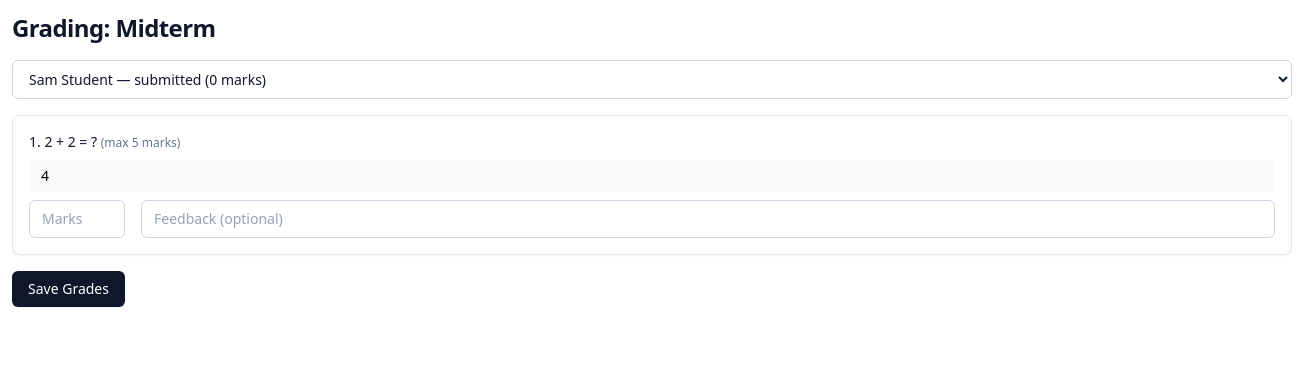
Test: GradingInterfacePage grading form › shows the VR-006 max-marks message on a 422 response, not a generic error
Type "10" into the number field with placeholder "Marks". click: (77, 219)
box: [29,200,125,238]
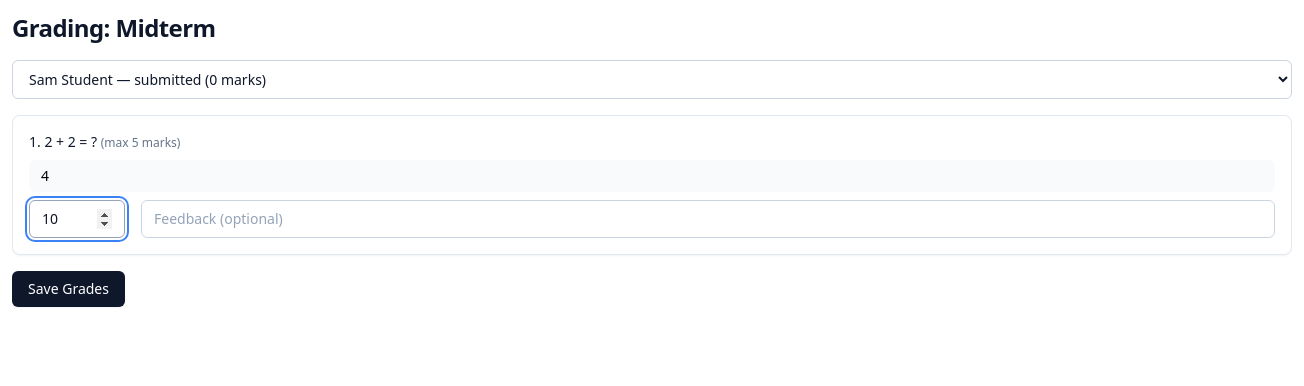
Click the button "Save Grades". click: (68, 289)
box: [12,271,125,307]
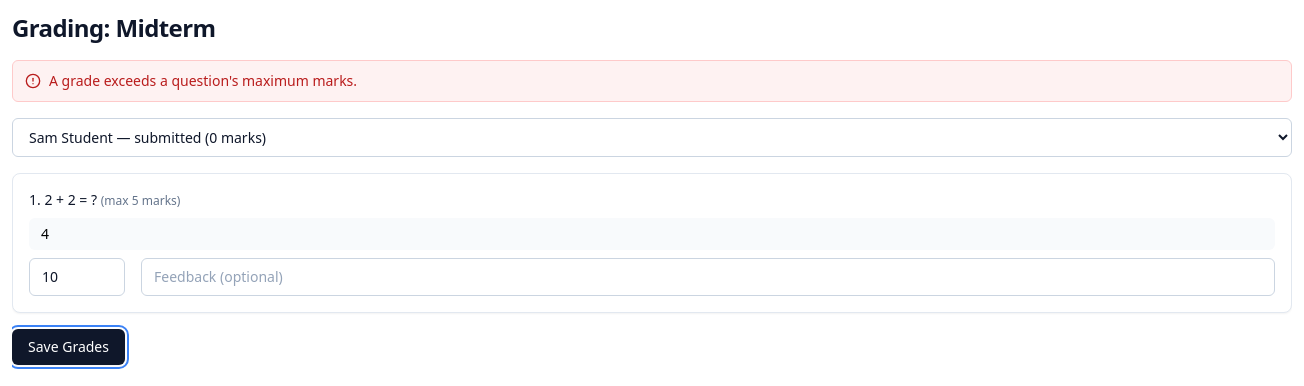
Expected: the message shows "exceeds a question's maximum marks", [49,71,357,90]
